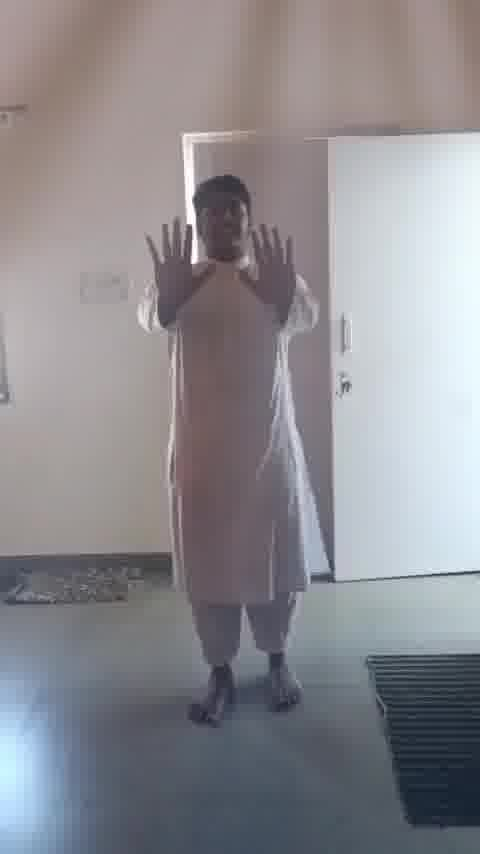duck: (141, 168, 323, 727)
